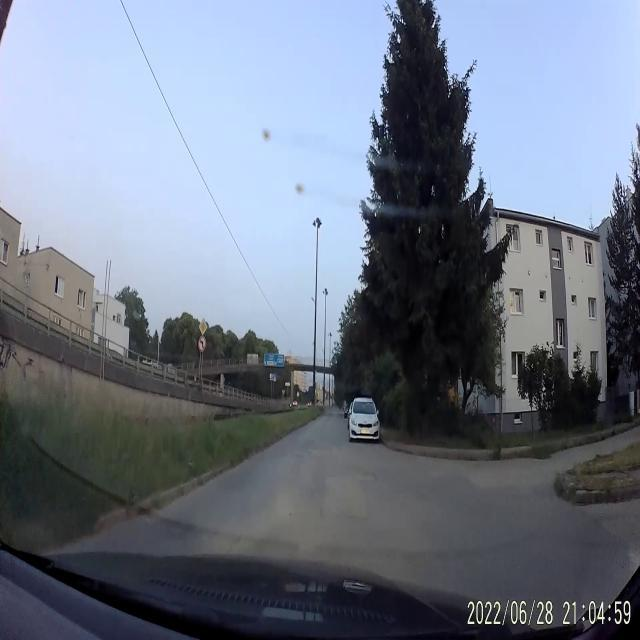Pothole: (354, 468, 378, 484)
